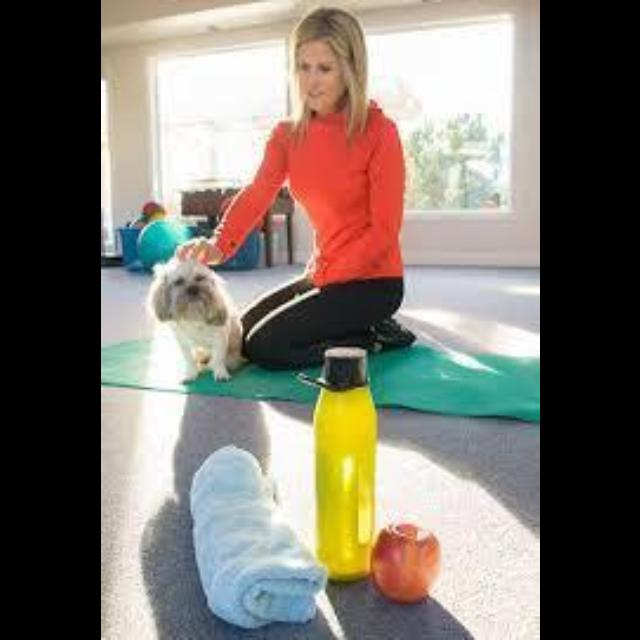apple: (369, 522, 438, 602)
